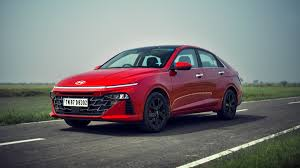car: (50, 43, 244, 136)
